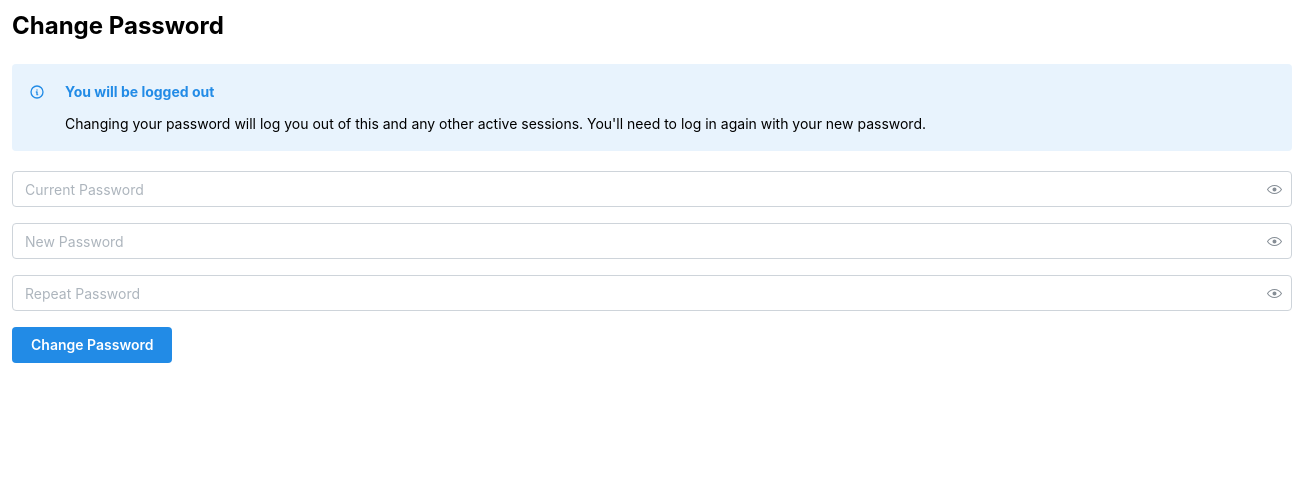
ChangePassword › does not submit when the passwords do not match
The image size is (1304, 492).
Type "oldpass1!" into the password field with placeholder "Current Password".
click(652, 189); type("oldpass1!")  # box [13, 172, 1291, 206]
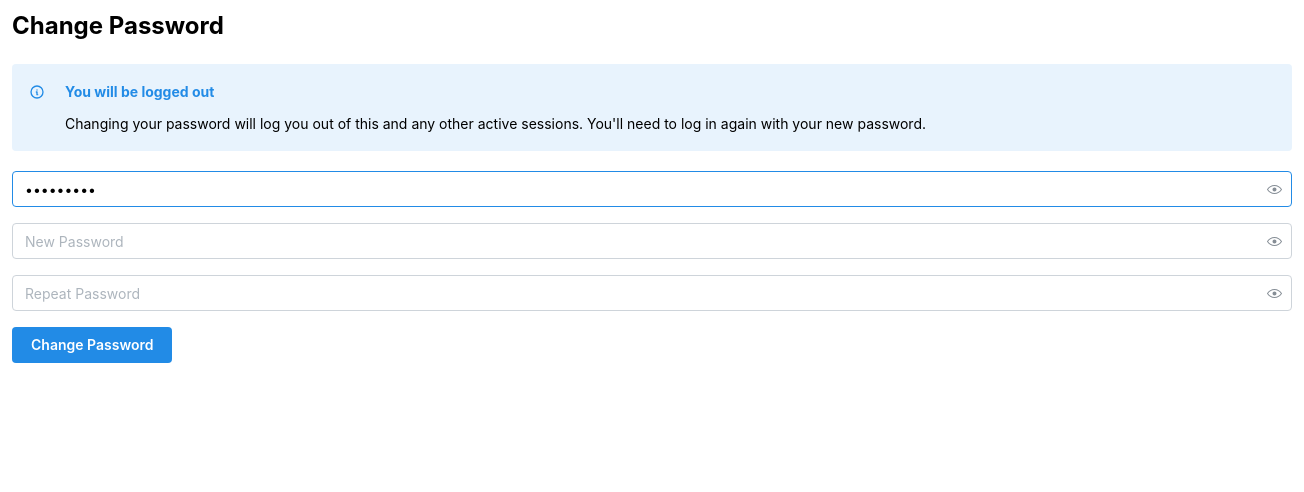
Type "newpass1!" into the password field with placeholder "New Password".
click(652, 241); type("newpass1!")  # box [13, 224, 1291, 258]
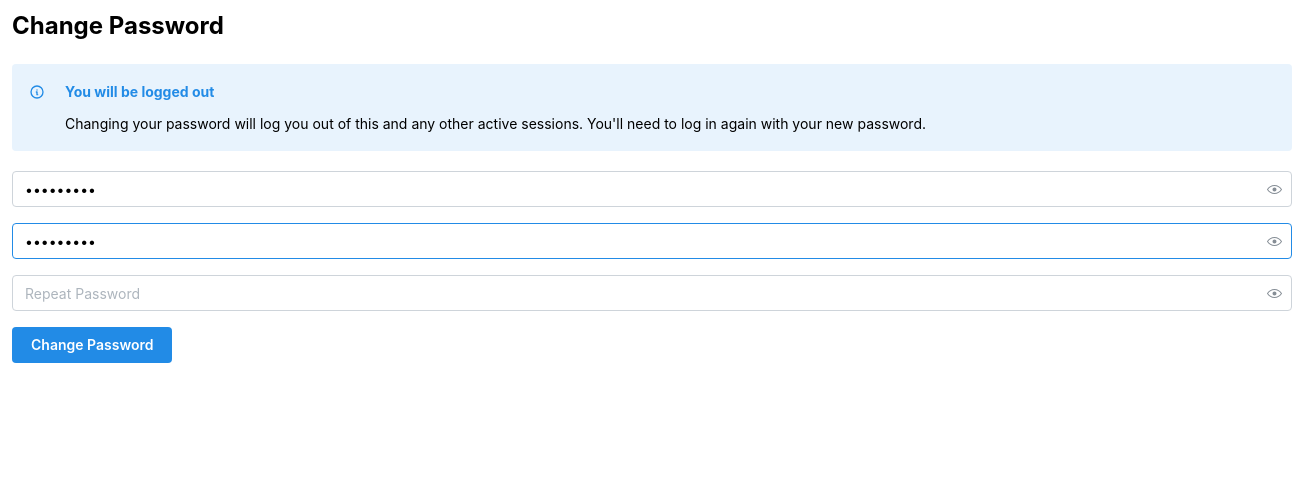
Type "different1!" into the password field with placeholder "Repeat Password".
click(652, 293); type("different1!")  # box [13, 276, 1291, 310]
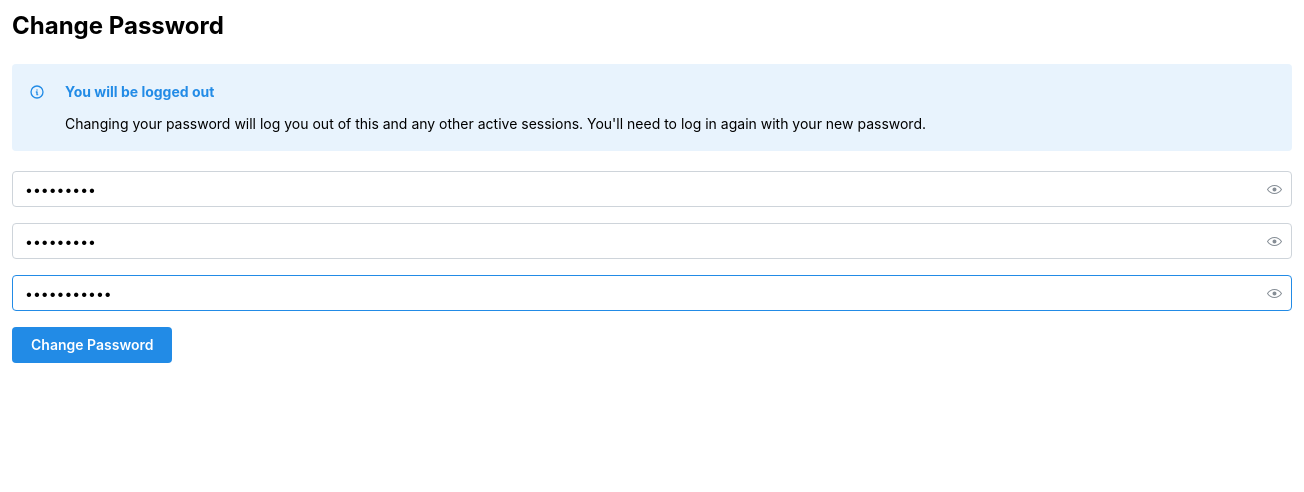
Click the button "Change Password".
click(92, 345)  # box [12, 327, 172, 363]
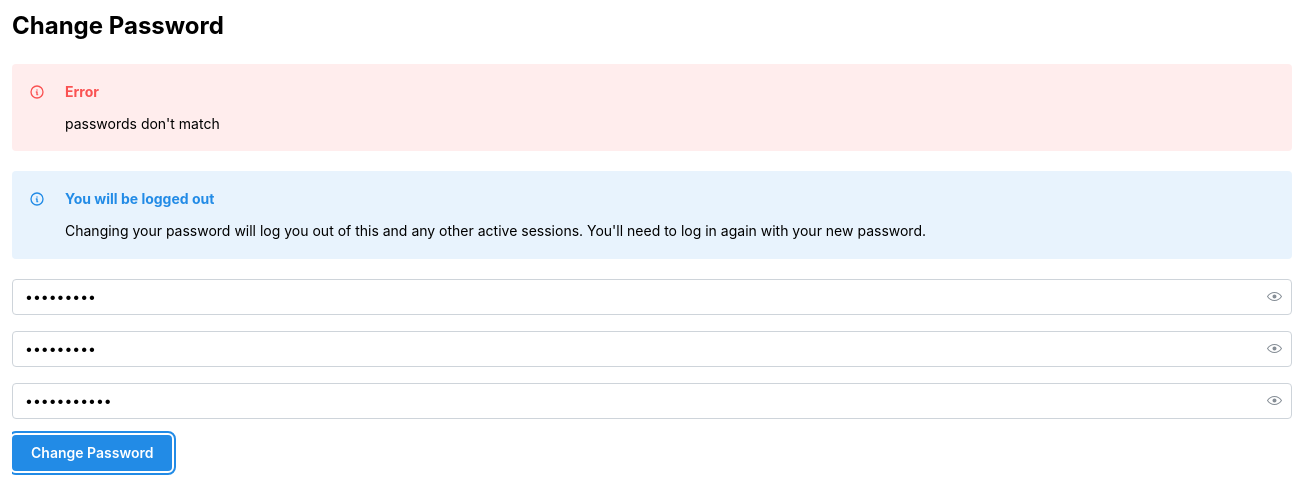
Now the text "passwords don't match" is shown, box [65, 115, 220, 132]
